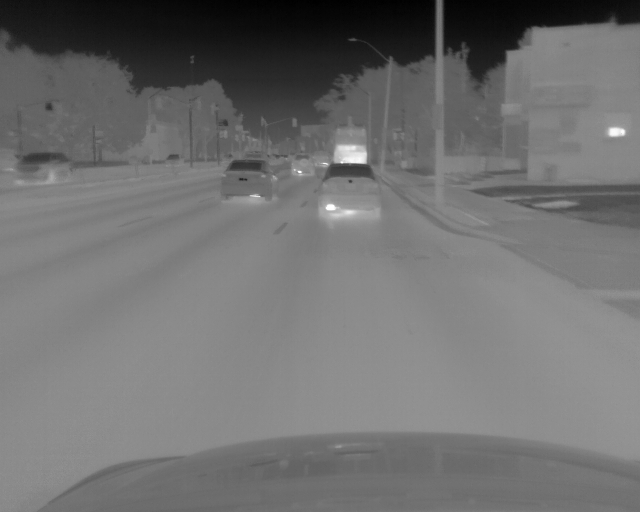car: (318, 163, 380, 222), (220, 160, 280, 204), (12, 152, 73, 187), (332, 125, 368, 164), (290, 154, 313, 176), (312, 149, 333, 169), (164, 154, 183, 167)
